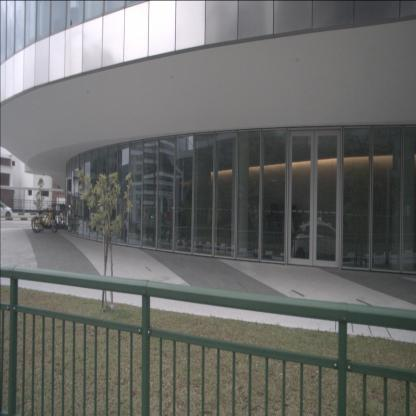vehicle-car: (292, 222, 354, 262), (0, 202, 13, 218)
